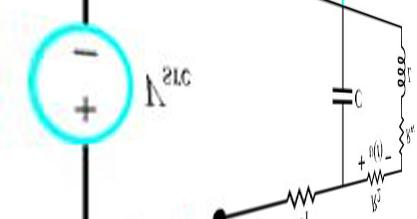inductor: (388, 34, 407, 96)
